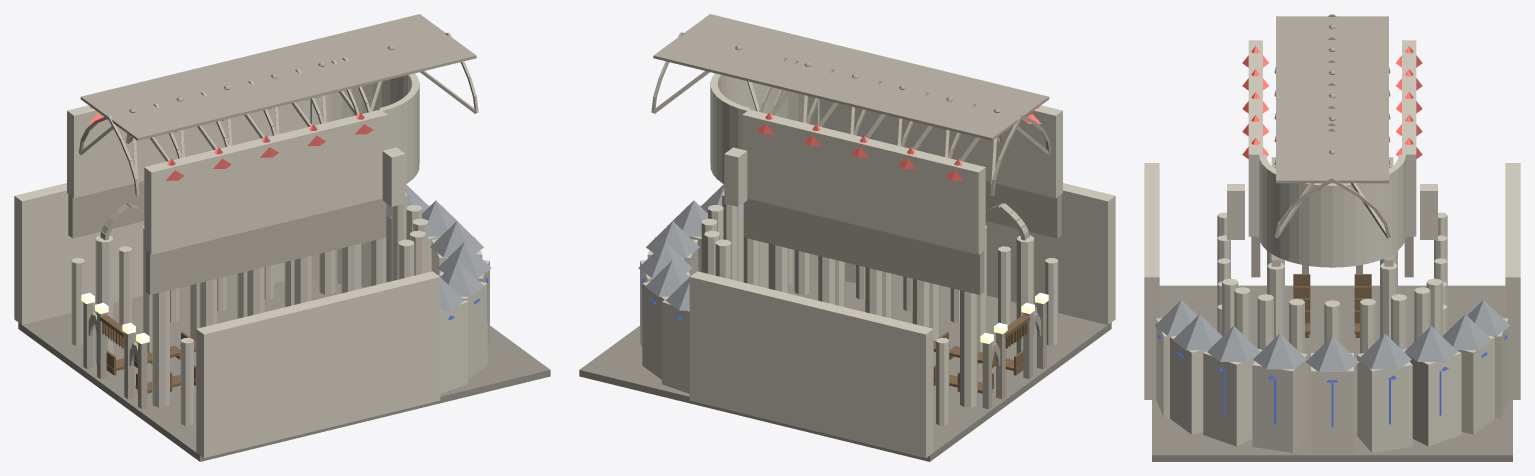
File: 04_choir_apse.glb
3 renders of one model, left to right at view 1: azimuth 30°, elevation 25°; view 2: azimuth 150°, elevation 25°; view 3: azimuth 270°, elevation 25°, orthographic.
Visible parts, largest first — view 1: choir_apse_stone, choir_apse_stoneshaded_nocol, choir_apse_stoneshaded, choir_apse_stonedark, choir_apse_lead_nocol, choir_apse_oak, choir_apse_glassred_nocol; view 2: choir_apse_stone, choir_apse_stoneshaded_nocol, choir_apse_stoneshaded, choir_apse_stonedark, choir_apse_lead_nocol, choir_apse_oak, choir_apse_glassred_nocol; view 3: choir_apse_stone, choir_apse_stoneshaded_nocol, choir_apse_stonedark, choir_apse_lead_nocol, choir_apse_oak, choir_apse_glassred_nocol, choir_apse_stoneshaded, choir_apse_glassblue_nocol.
Part boxes in pixels (x1=…): choir_apse_stone: x1=14, y1=73, x2=489, y2=457; choir_apse_stoneshaded_nocol: x1=79, y1=14, x2=478, y2=195; choir_apse_stoneshaded: x1=68, y1=181, x2=386, y2=409; choir_apse_stonedark: x1=18, y1=274, x2=550, y2=461; choir_apse_lead_nocol: x1=386, y1=184, x2=491, y2=310; choir_apse_oak: x1=100, y1=315, x2=196, y2=393; choir_apse_glassred_nocol: x1=88, y1=106, x2=373, y2=180; choir_apse_stone: x1=640, y1=73, x2=1115, y2=457; choir_apse_stoneshaded_nocol: x1=651, y1=14, x2=1050, y2=195; choir_apse_stoneshaded: x1=743, y1=181, x2=1061, y2=409; choir_apse_stonedark: x1=579, y1=274, x2=1111, y2=461; choir_apse_lead_nocol: x1=638, y1=184, x2=743, y2=310; choir_apse_oak: x1=933, y1=315, x2=1029, y2=393; choir_apse_glassred_nocol: x1=756, y1=106, x2=1041, y2=180; choir_apse_stone: x1=1144, y1=40, x2=1520, y2=453; choir_apse_stoneshaded_nocol: x1=1274, y1=14, x2=1390, y2=238; choir_apse_stonedark: x1=1152, y1=285, x2=1512, y2=461; choir_apse_lead_nocol: x1=1154, y1=300, x2=1510, y2=371; choir_apse_oak: x1=1293, y1=274, x2=1371, y2=337; choir_apse_glassred_nocol: x1=1242, y1=46, x2=1422, y2=158; choir_apse_stoneshaded: x1=1251, y1=157, x2=1413, y2=277; choir_apse_glassblue_nocol: x1=1157, y1=334, x2=1507, y2=427.
Size of what is drawn, in the model's own units: 44.71 by 34.1 by 41.7.
